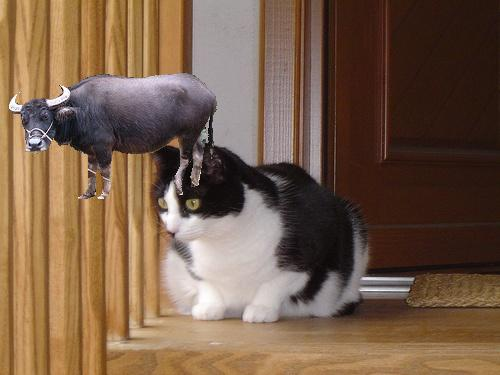tampered: (10, 74, 217, 199)
